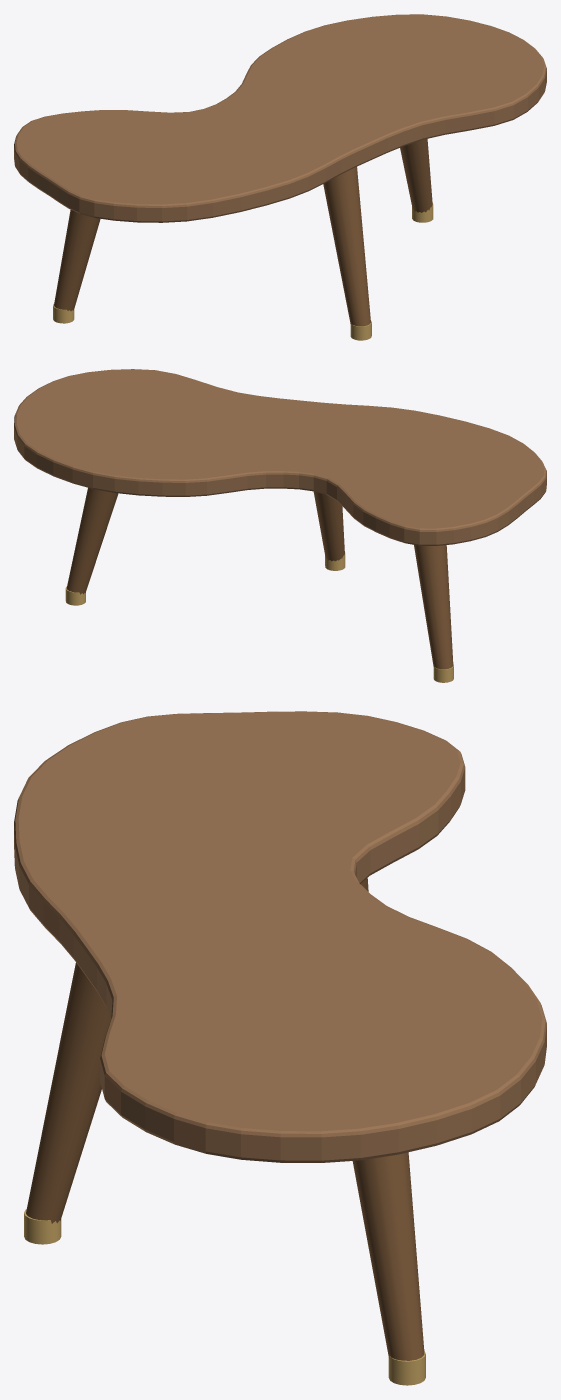
File: table_kidney_coffee.glb
The picture shows the model from 3 angles, top to bottom: view 1: azimuth 30°, elevation 25°; view 2: azimuth 150°, elevation 25°; view 3: azimuth 270°, elevation 25°; orthographic projection. The views are drawn at different scales.
Parts seen in each view (by area): view 1: Kidney-shaped coffee tabletop, Kidney table splayed tapered leg.002, Kidney table splayed tapered leg, Kidney table splayed tapered leg.001; view 2: Kidney-shaped coffee tabletop, Kidney table splayed tapered leg, Kidney table splayed tapered leg.001, Kidney table splayed tapered leg.002; view 3: Kidney-shaped coffee tabletop, Kidney table splayed tapered leg.002, Kidney table splayed tapered leg.001, Kidney table grounded brass foot.001, Kidney table grounded brass foot.002.
Boxes of the visible parts, x1,y1,x2,y2 form: Kidney-shaped coffee tabletop: (14, 14, 546, 222); Kidney table splayed tapered leg.002: (323, 167, 370, 326); Kidney table splayed tapered leg: (54, 210, 100, 311); Kidney table splayed tapered leg.001: (400, 139, 432, 212); Kidney-shaped coffee tabletop: (14, 369, 546, 545); Kidney table splayed tapered leg: (414, 545, 453, 669); Kidney table splayed tapered leg.001: (66, 488, 118, 594); Kidney table splayed tapered leg.002: (313, 491, 344, 561); Kidney-shaped coffee tabletop: (14, 711, 546, 1162); Kidney table splayed tapered leg.002: (26, 962, 110, 1223); Kidney table splayed tapered leg.001: (352, 1152, 424, 1360); Kidney table grounded brass foot.001: (388, 1351, 425, 1385); Kidney table grounded brass foot.002: (24, 1209, 61, 1244).
Size of the model in its own units: 1.29 by 0.44 by 0.6869.
